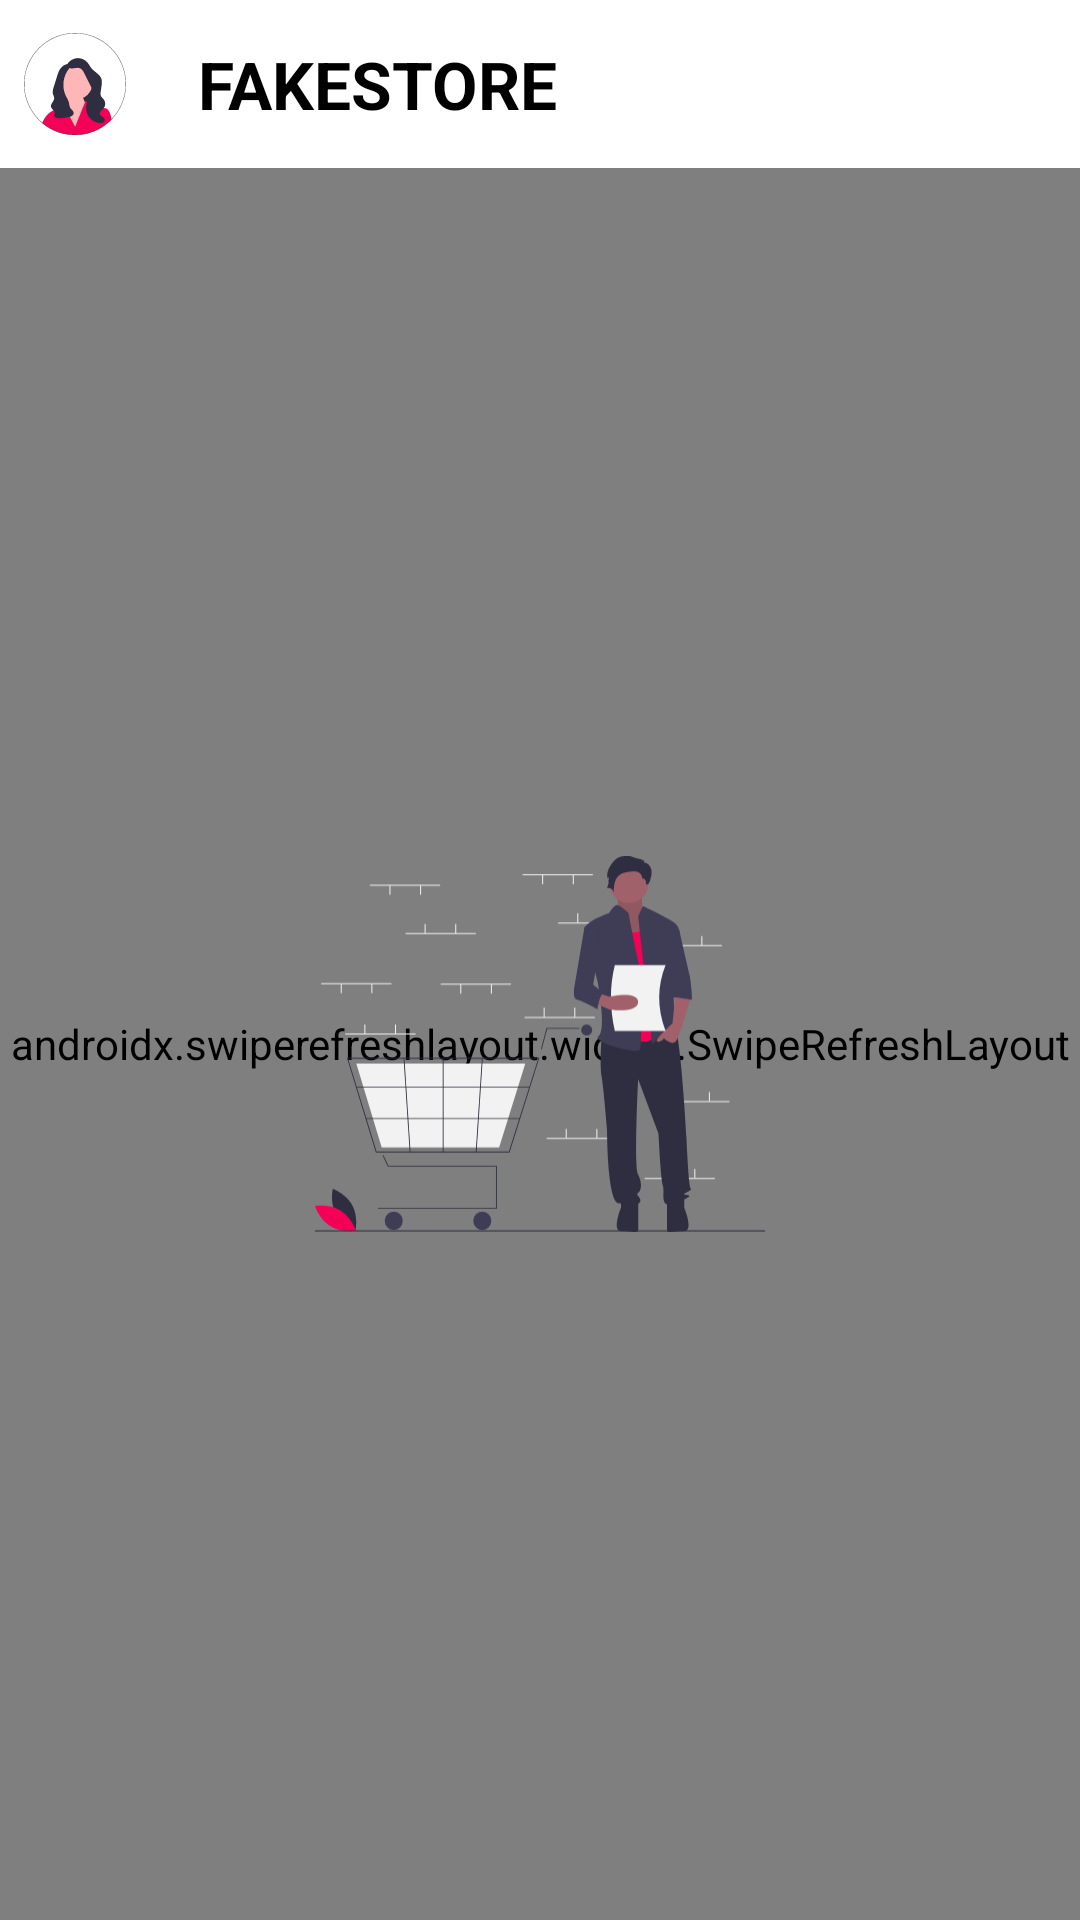

Where to tap for icons on this 1080×1920 app screen, as point (x, y):
profile: point (75, 84)
